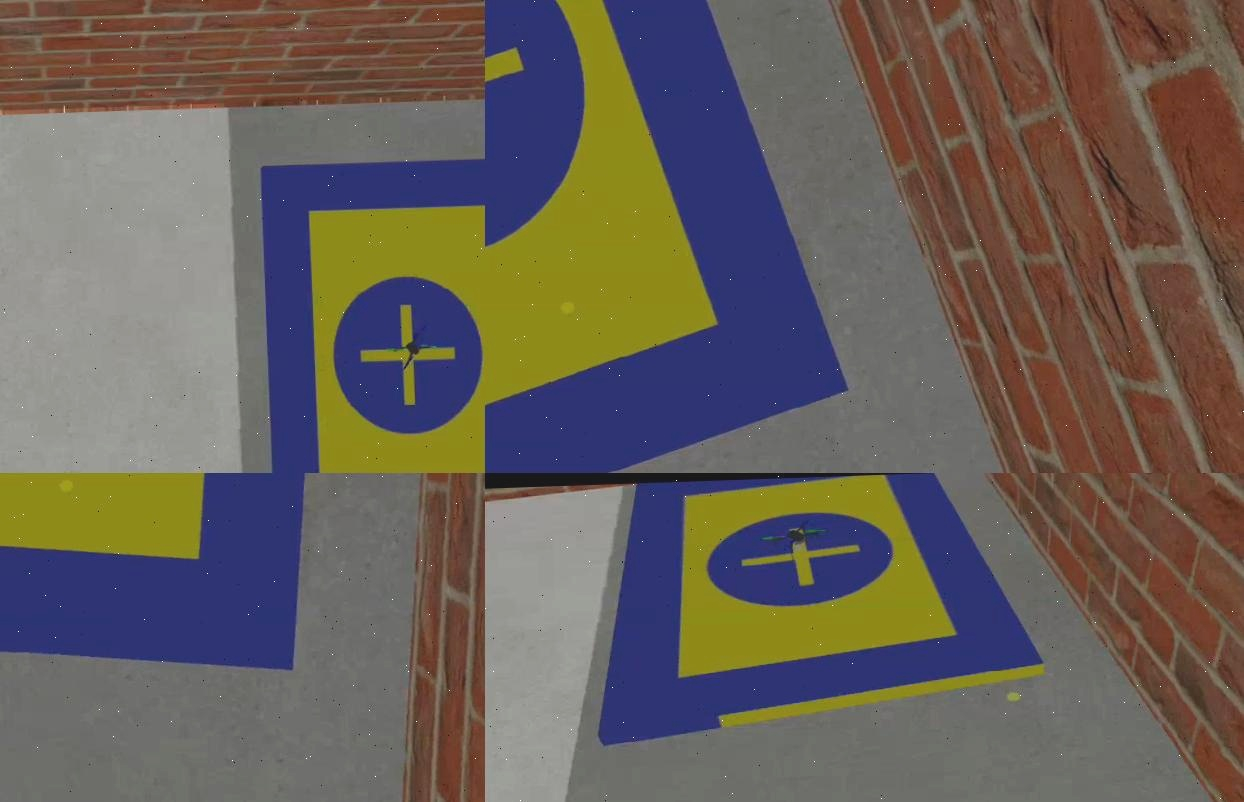large_base: (486, 1, 852, 473), (591, 473, 1053, 747), (0, 473, 359, 693), (259, 153, 486, 473)
